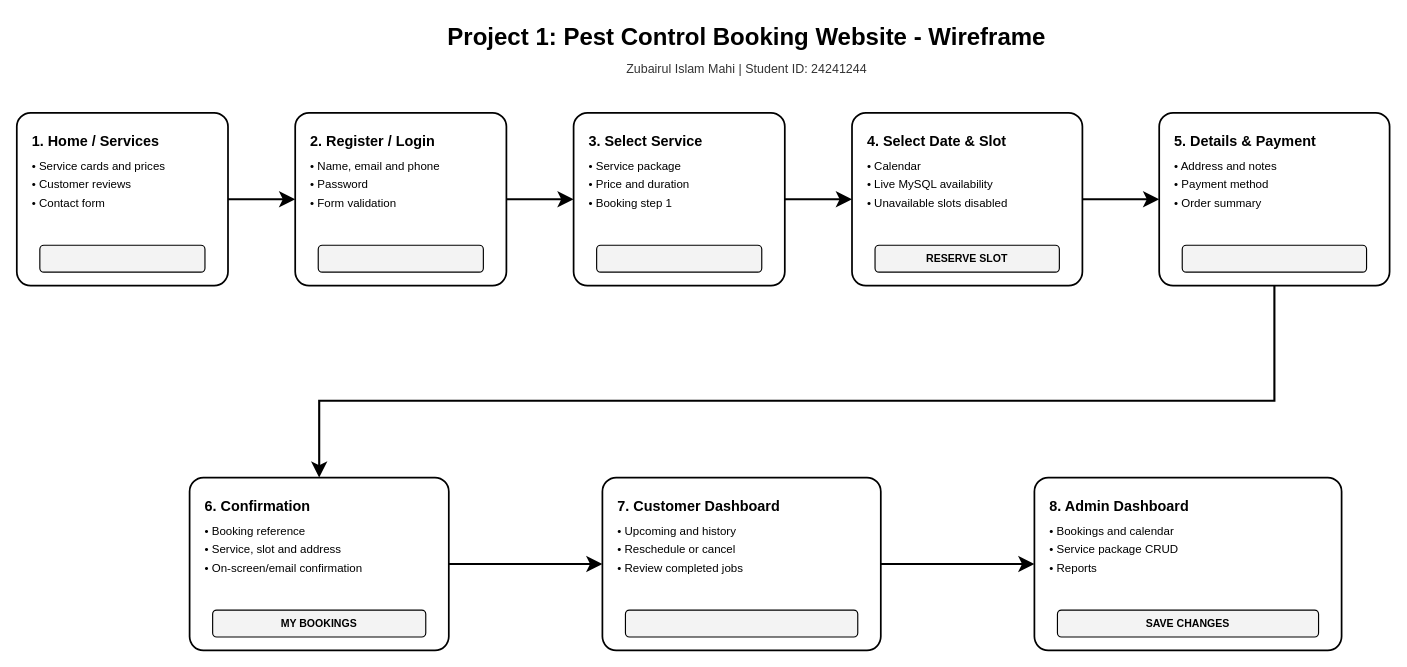
Some shapes in this 1407 by 667 pixel diagram are drawn without their labels. The shapes that lost their labels are listed below. From the top down, each one's centre as x and y in pixels, then its label:
(x=122, y=258): BOOK A SERVICE
(x=400, y=258): CREATE ACCOUNT
(x=679, y=258): CONTINUE
(x=1274, y=258): CONFIRM & PAY
(x=741, y=623): MANAGE
